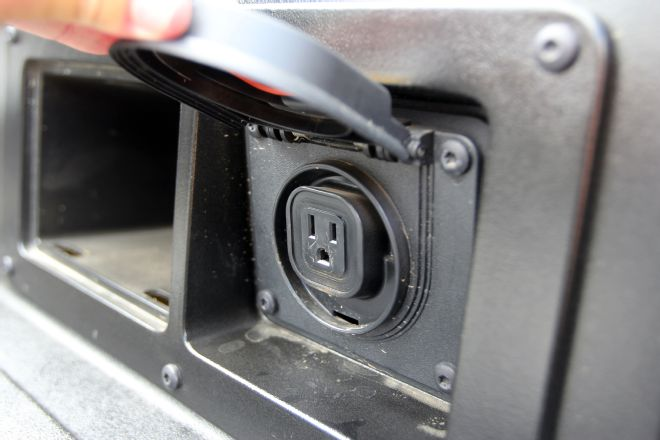outlet: (303, 211, 341, 269)
